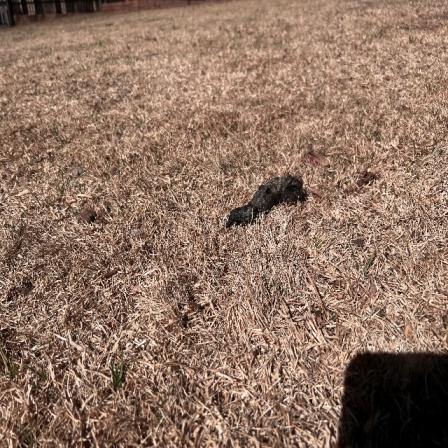dog-poop: (220, 169, 322, 228)
